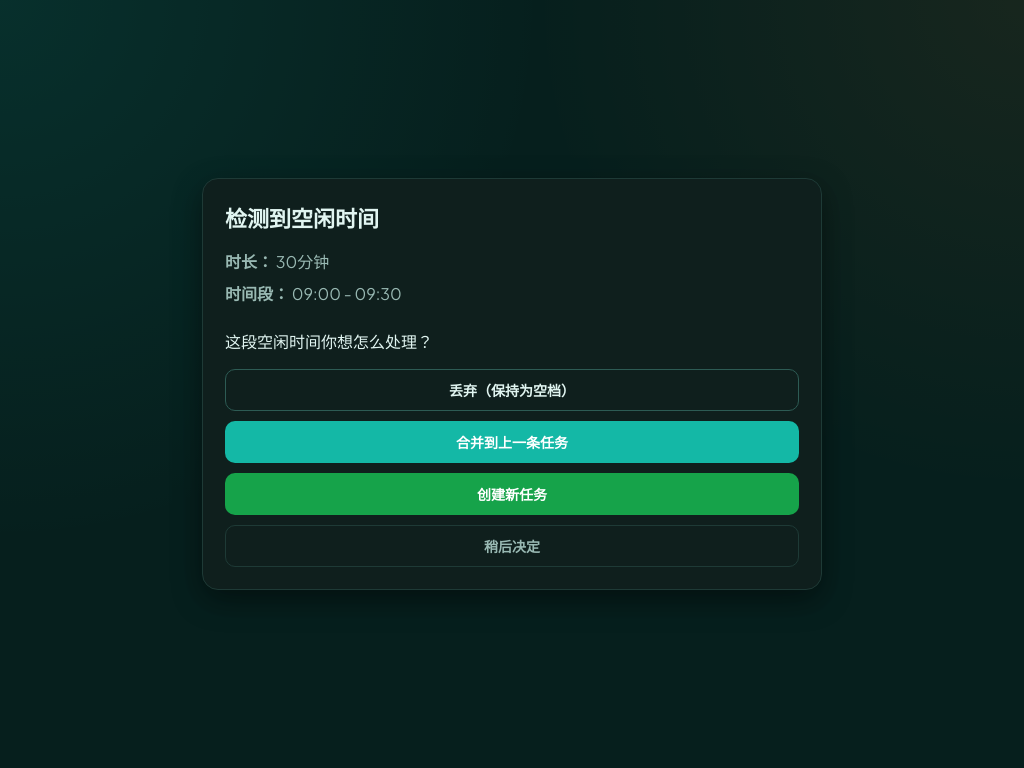
Scenario: IdlePrompt › shows label input when 创建新任务 button is clicked
This screenshot has width=1024, height=768.
Click the button "创建新任务" at (512, 494), box [225, 473, 799, 515]
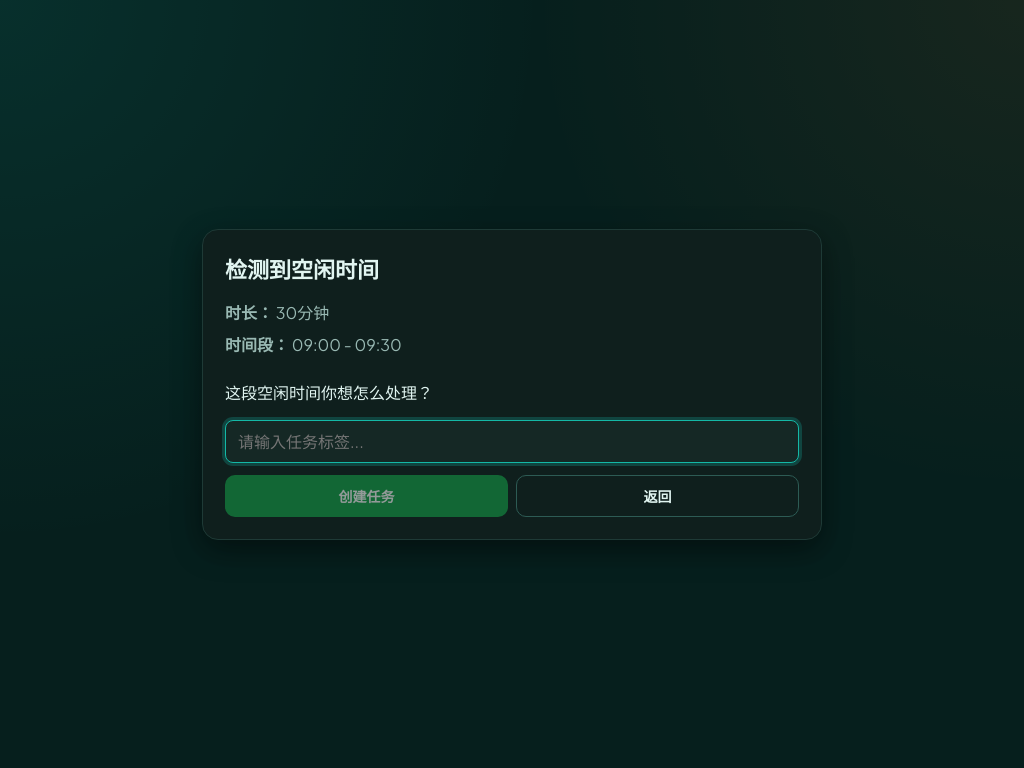
Expected: the field with placeholder "请输入任务标签..." is shown, [225, 420, 799, 462]
Expected: the button "创建任务" is shown, [225, 474, 508, 516]
Expected: the button "返回" is shown, [516, 474, 799, 516]
